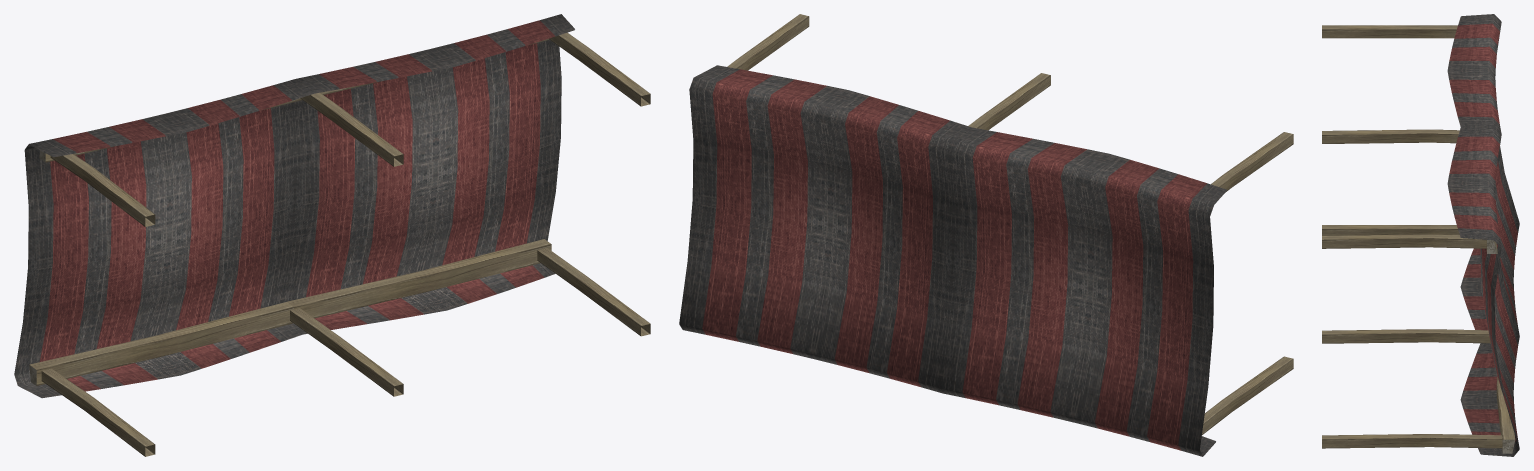
File: Merchant_Tent_Type_02_B.fbx
The picture shows the model from 3 angles, left to right: view 1: azimuth 30°, elevation 25°; view 2: azimuth 150°, elevation 25°; view 3: azimuth 270°, elevation 25°; orthographic projection. The views are drawn at different scales.
Parts seen in each view (by area): view 1: Merchant_Tent_Type_02_B; view 2: Merchant_Tent_Type_02_B; view 3: Merchant_Tent_Type_02_B.
Boxes of the visible parts, box(x1,y1,x2,y2) form: Merchant_Tent_Type_02_B: box(14, 14, 650, 456); Merchant_Tent_Type_02_B: box(679, 14, 1293, 456); Merchant_Tent_Type_02_B: box(1322, 14, 1519, 456).
Size of the model in its own units: 10.52 by 4.73 by 3.89.
